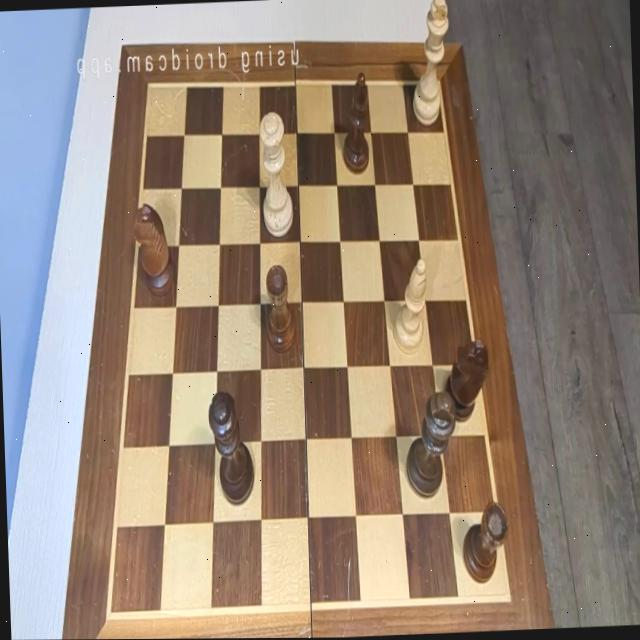black_bishop: (339, 72, 372, 172)
black_king: (403, 389, 458, 500)
black_knight: (444, 338, 491, 423), (132, 202, 174, 297)
black_queen: (207, 389, 256, 505)
black_rook: (460, 501, 510, 585), (262, 265, 296, 354)
white_bishop: (390, 258, 429, 354)
white_king: (408, 0, 452, 127)
white_queen: (258, 111, 294, 238)
